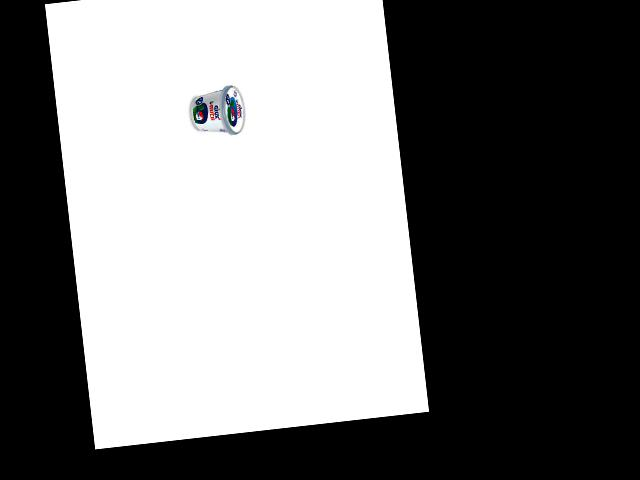cotage: (186, 85, 248, 141)
